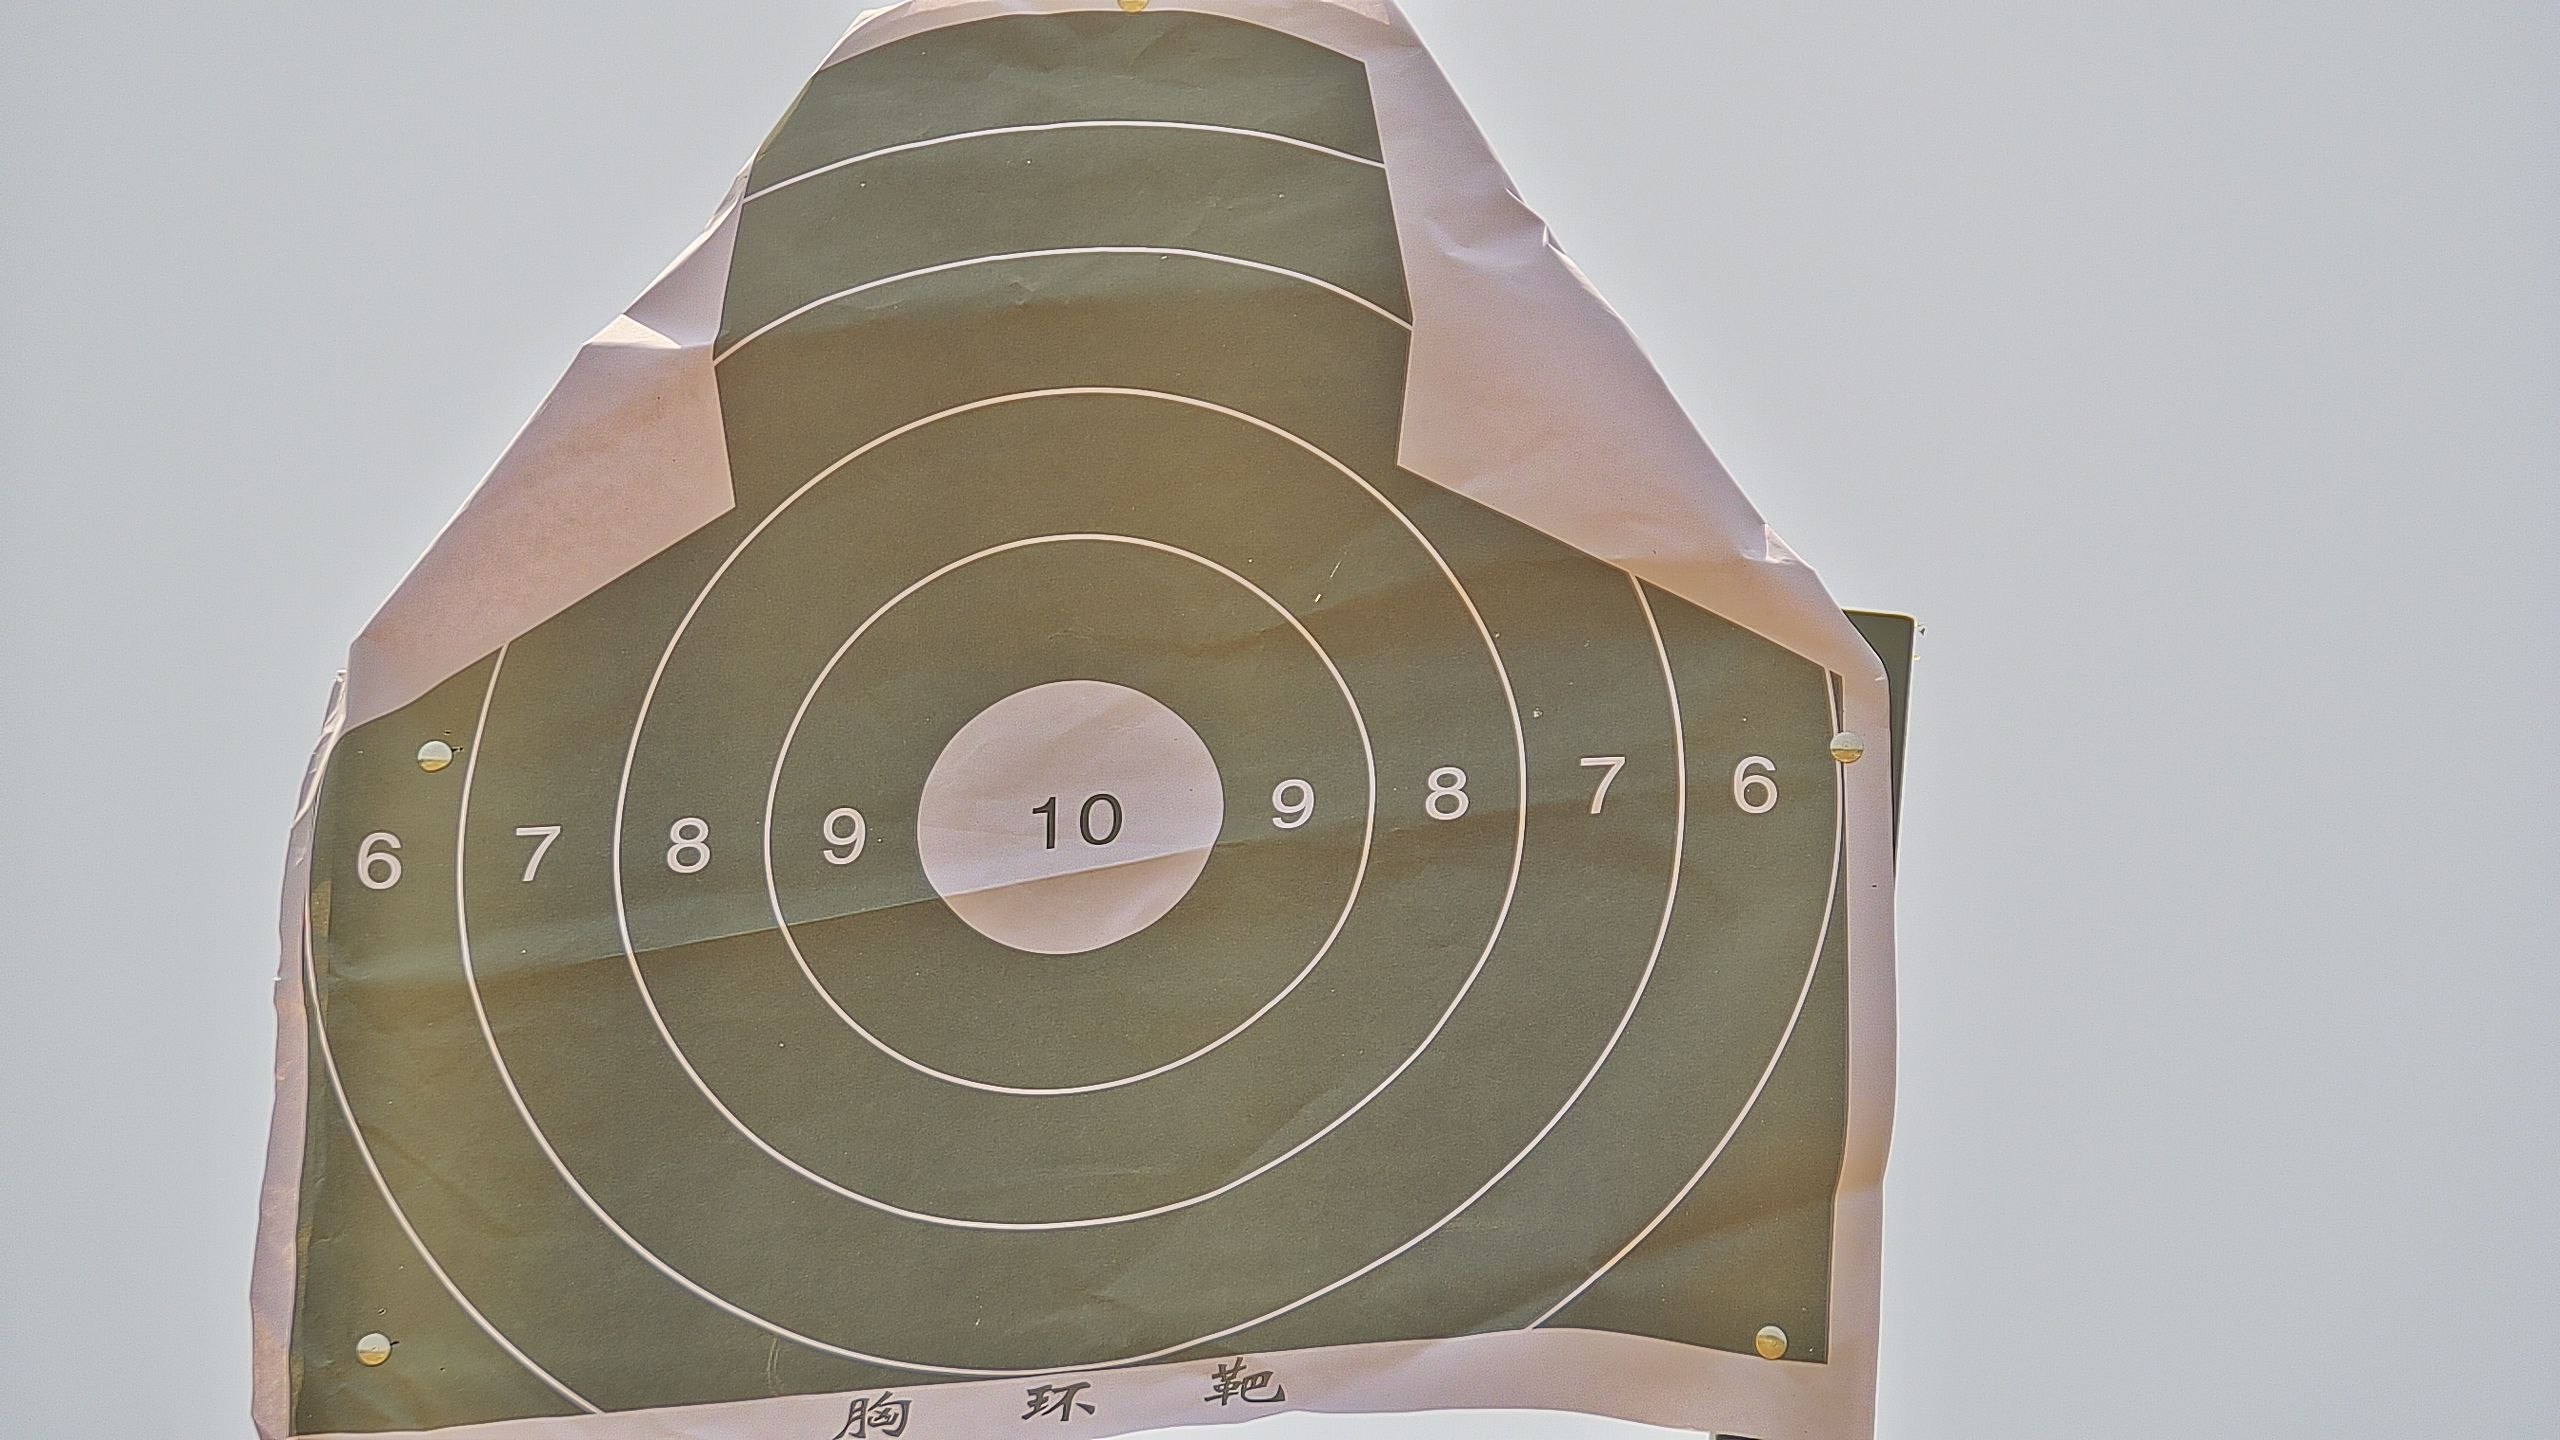kernel: (1065, 823, 1071, 832)
target: (304, 2, 1860, 1440)
ten: (913, 675, 1229, 955)
